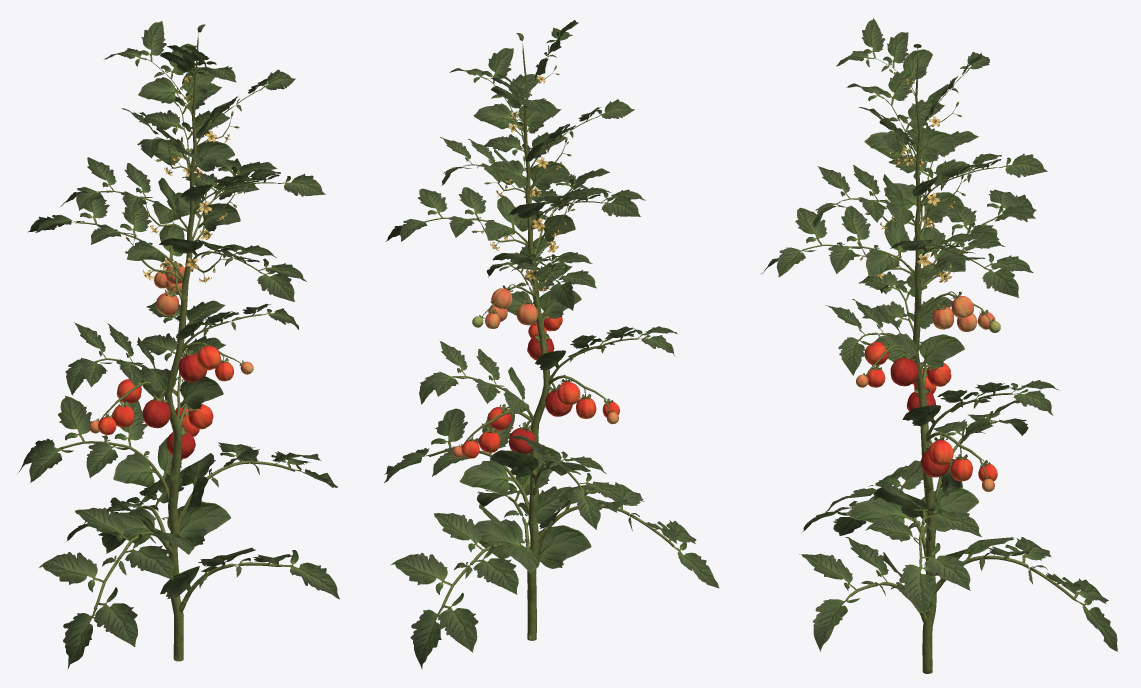
File: tomato26.dae
3 views of the same model, side by side, from view 1: azimuth 30°, elevation 25°; view 2: azimuth 150°, elevation 25°; view 3: azimuth 270°, elevation 25° (orthographic). The views are drawn at different scales.
Visible parts, largest first — view 1: Leaf2, Leaf1, Branch1, Fruit1, Fruit2, Fruit3, Blossom1, Blossom3; view 2: Leaf2, Leaf1, Branch1, Fruit1, Fruit3, Fruit2, Blossom1, Blossom3; view 3: Leaf2, Leaf1, Branch1, Fruit1, Fruit3, Fruit2, Blossom1, Blossom3.
Boxes of the visible parts, <box> form: Leaf2: <box>18,21,339,669</box>; Leaf1: <box>101,24,255,598</box>; Branch1: <box>59,34,295,661</box>; Fruit1: <box>98,346,233,436</box>; Fruit2: <box>142,353,206,458</box>; Fruit3: <box>89,262,253,433</box>; Blossom1: <box>125,75,242,282</box>; Blossom3: <box>96,79,243,435</box>; Leaf2: <box>384,20,719,669</box>; Leaf1: <box>459,33,606,572</box>; Branch1: <box>425,43,674,640</box>; Fruit1: <box>461,313,619,458</box>; Fruit3: <box>452,288,618,458</box>; Fruit2: <box>509,334,572,454</box>; Blossom1: <box>471,65,575,291</box>; Blossom3: <box>459,66,613,447</box>; Leaf2: <box>760,18,1117,651</box>; Leaf1: <box>846,43,1013,612</box>; Branch1: <box>802,49,1076,673</box>; Fruit1: <box>864,342,997,481</box>; Fruit3: <box>856,296,995,491</box>; Fruit2: <box>890,357,949,477</box>; Blossom1: <box>857,69,967,282</box>; Blossom3: <box>856,69,993,479</box>.
Size of the model in its own units: 0.7517 by 0.7567 by 1.46.
